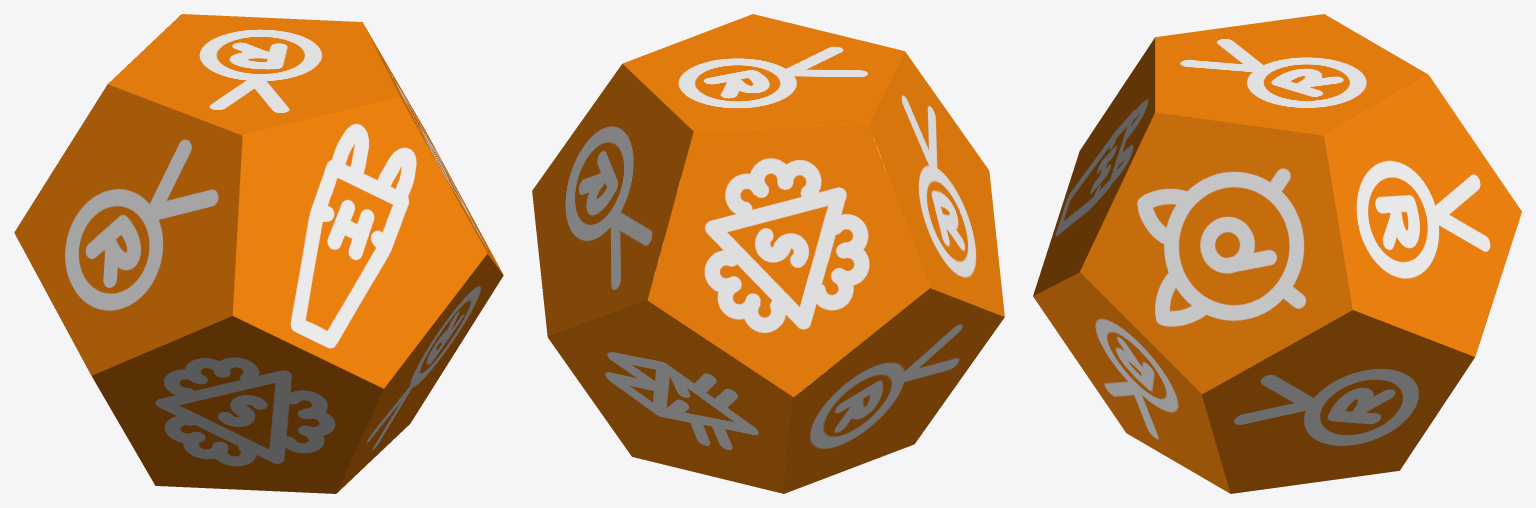
Rendered from redCube.fbx.
The picture shows the model from 3 angles, left to right: view 1: azimuth 30°, elevation 25°; view 2: azimuth 150°, elevation 25°; view 3: azimuth 270°, elevation 25°; orthographic projection. The views are drawn at different scales.
Parts seen in each view (by area): view 1: Icosphere; view 2: Icosphere; view 3: Icosphere.
Boxes of the visible parts, x1,y1,x2,y2 form: Icosphere: (14,14,503,493); Icosphere: (532,14,1004,493); Icosphere: (1033,14,1521,493).
Size of the model in its own units: 156 by 126 by 149.
